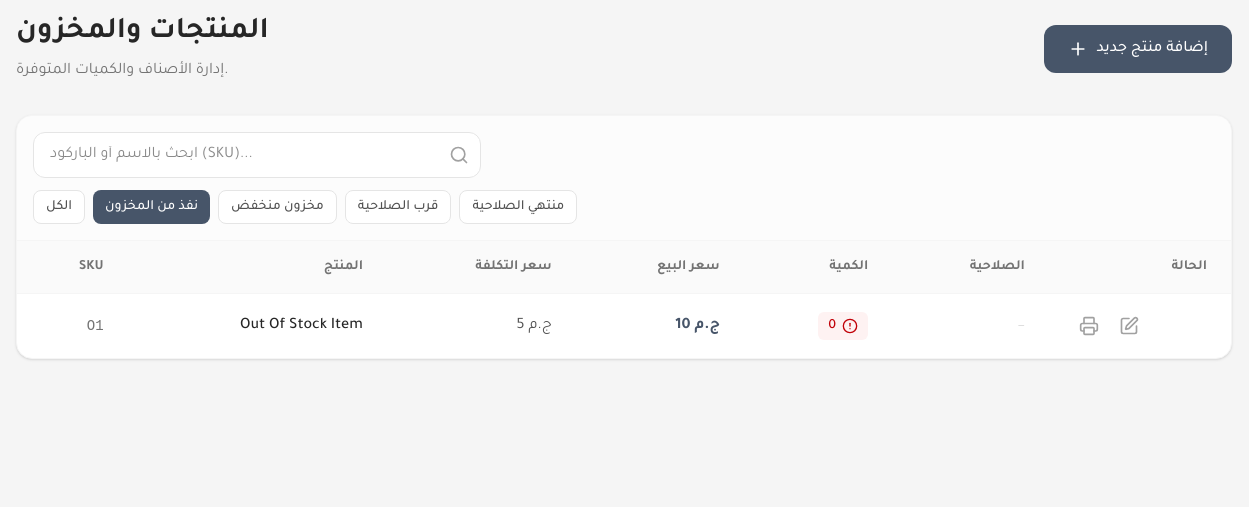
it: Products filter chips › returns to showing everything when "الكل" is clicked
expect the text "Out Of Stock Item" is shown: met, box [128,294,387,358]
expect the text "Healthy Item" is not shown: met
Click the button "الكل". click: {"x": 59, "y": 207}
box: [33,190,85,224]
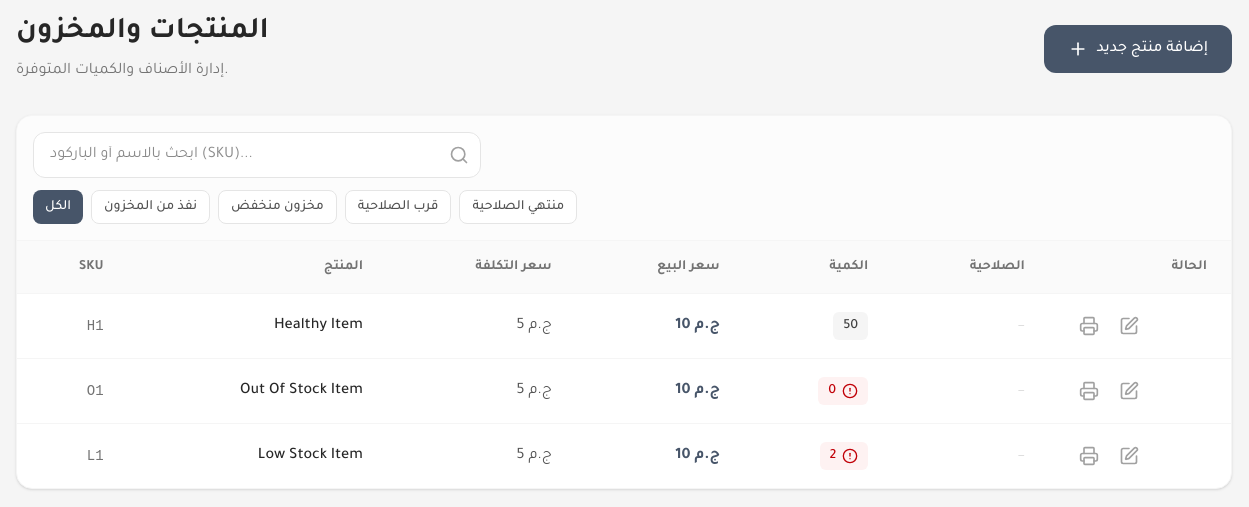
expect the text "Healthy Item" is shown: met, box [128,294,387,358]
